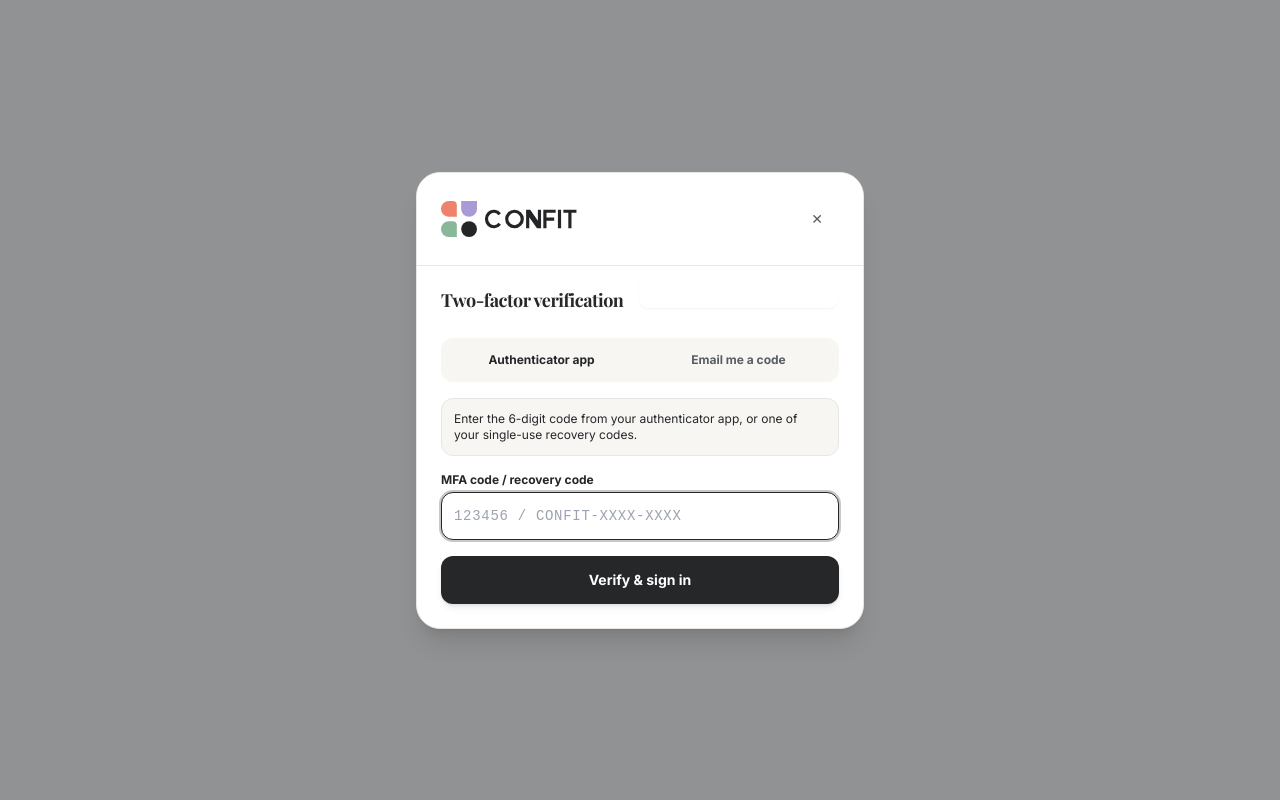
Test: sending the code › a transport failure is an honest failure — no fake "check your inbox"
Click the radio button labelled "Email me a code": (738, 360) [642, 342, 835, 378]
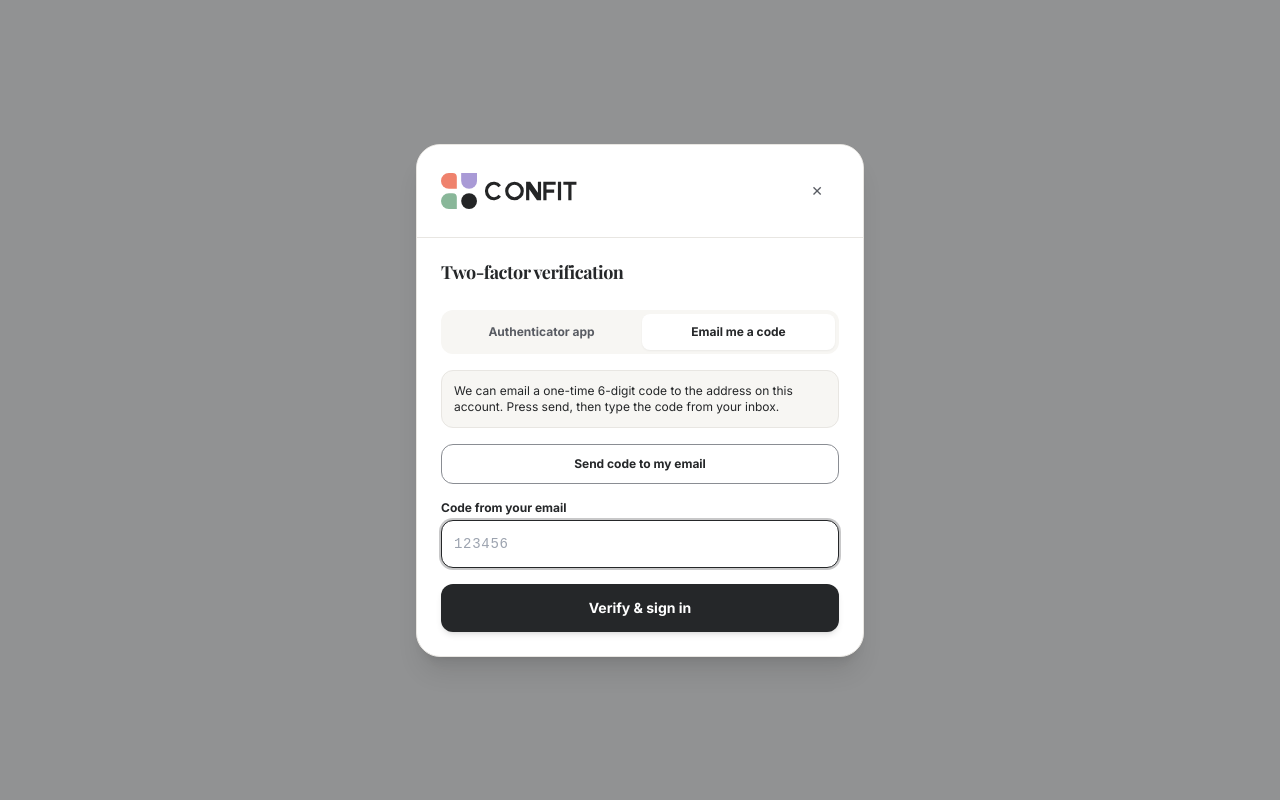
Click the button "Send code to my email": (640, 464) [441, 444, 839, 484]
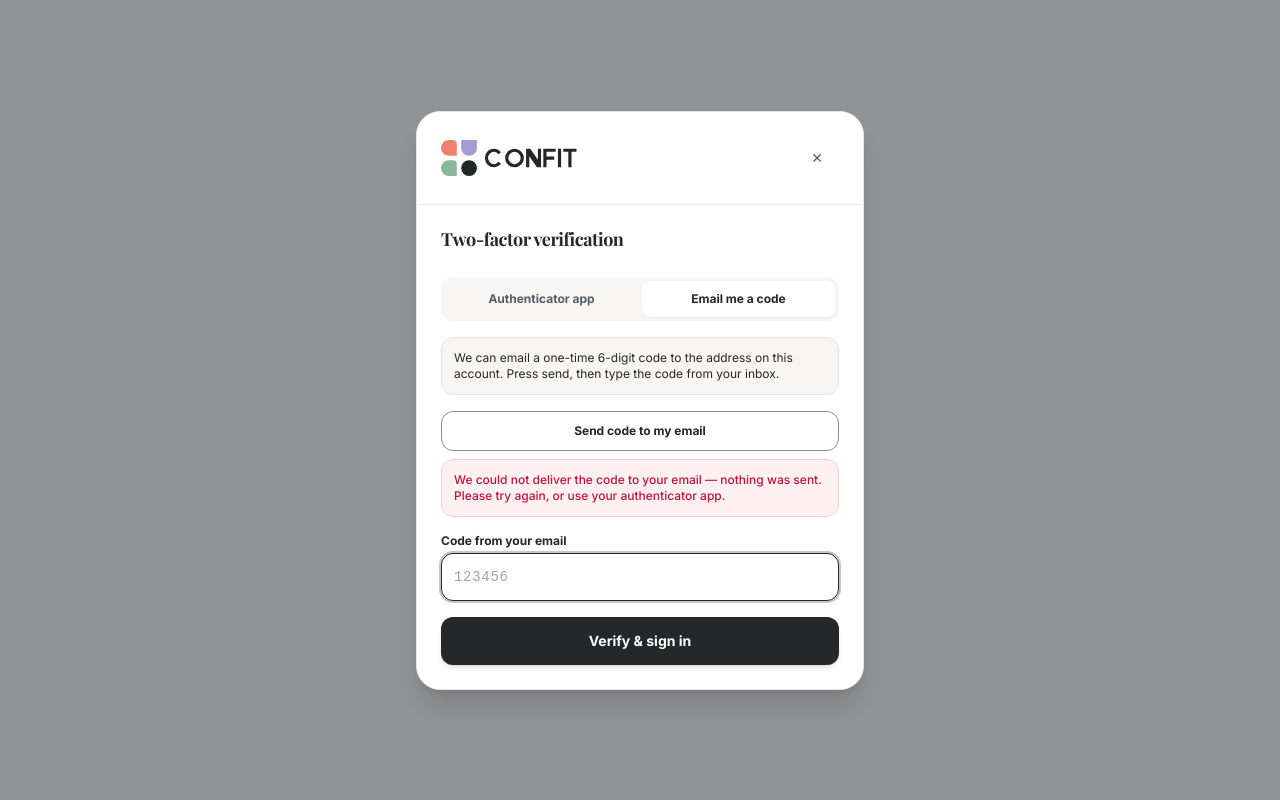
Expected: the button "Send code to my email" is enabled, [441, 410, 839, 450]
Expected: the text "We could not deliver the code to your email — nothing was sent. Please try again, or use your authenticator app." is shown, [454, 472, 822, 502]
